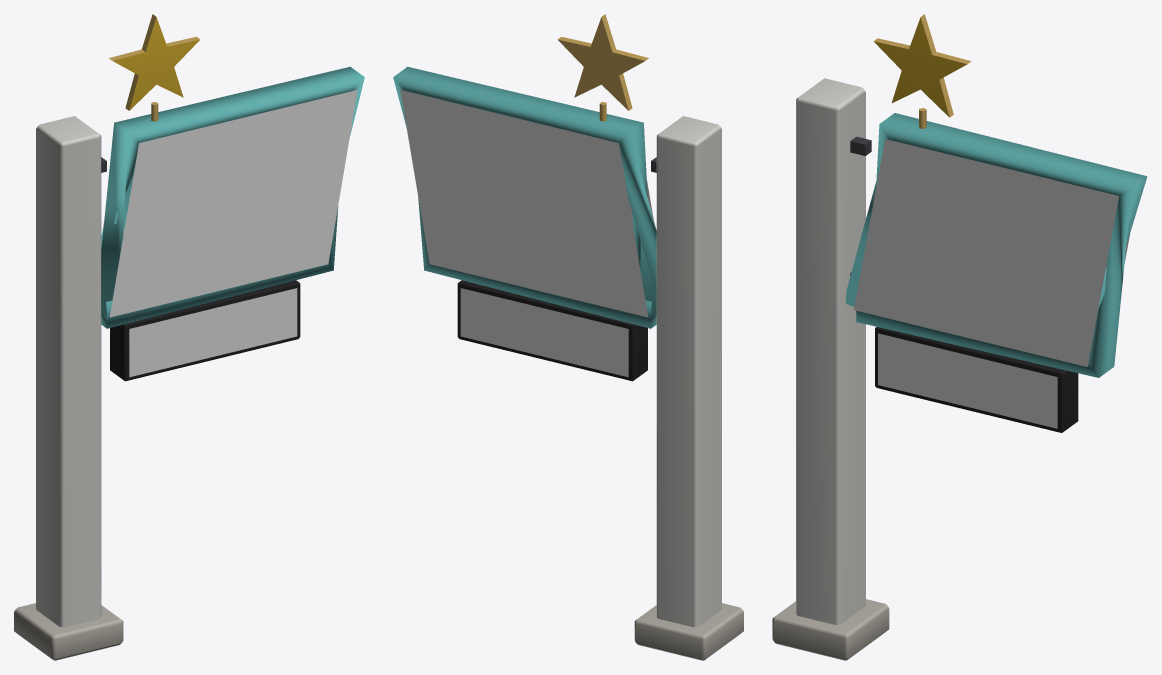
Rendered from MotelSignFL.fbx.
3 renders of one model, left to right at view 1: azimuth 30°, elevation 25°; view 2: azimuth 150°, elevation 25°; view 3: azimuth 330°, elevation 25°, orthographic. The views are drawn at different scales.
Visible parts, largest first — view 1: MotelSignFL; view 2: MotelSignFL; view 3: MotelSignFL.
Boxes of the visible parts, x1,y1,x2,y2 form: MotelSignFL: (14,14,364,660); MotelSignFL: (393,14,743,660); MotelSignFL: (772,14,1147,660).
Bounding box in the file's own units: 3.86 × 6.85 × 0.84.
